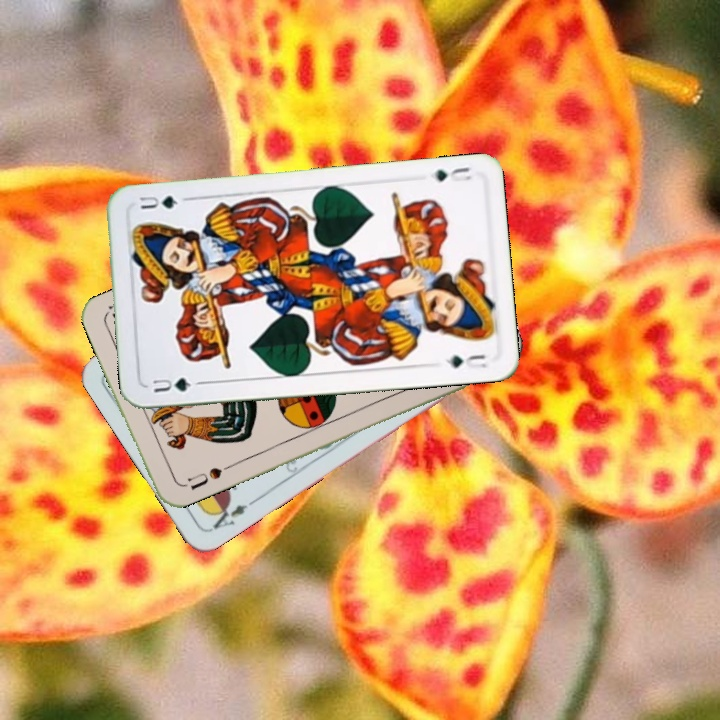EA: (206, 497, 250, 533)
GU: (148, 373, 204, 395), (430, 163, 474, 185)
SU: (184, 461, 233, 493)
